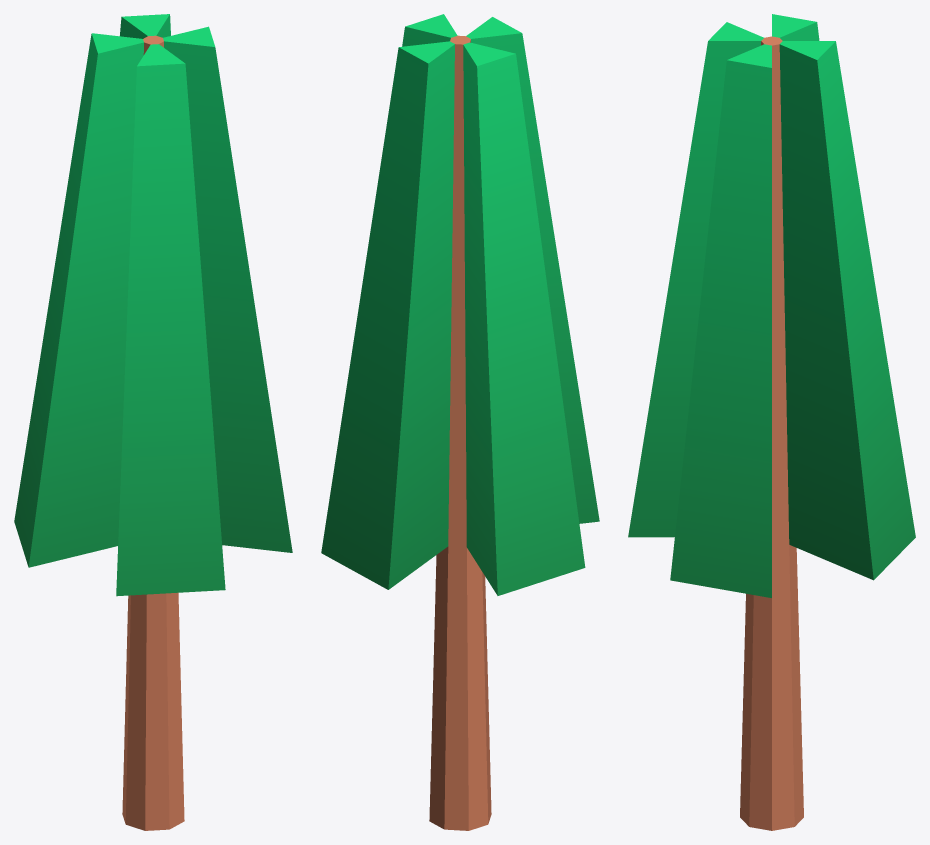
The model's file is Tree_28_gradient_green.fbx.
3 renders of one model, left to right at view 1: azimuth 30°, elevation 25°; view 2: azimuth 150°, elevation 25°; view 3: azimuth 270°, elevation 25°, orthographic.
Parts seen in each view (by area): view 1: Tree_28_gradient_green; view 2: Tree_28_gradient_green; view 3: Tree_28_gradient_green.
Part boxes in pixels (bbox=[...]): Tree_28_gradient_green: bbox=[14, 14, 292, 830]; Tree_28_gradient_green: bbox=[321, 14, 599, 830]; Tree_28_gradient_green: bbox=[628, 14, 915, 830].
Bounding box in the file's own units: 98.97 × 294 × 98.97.
